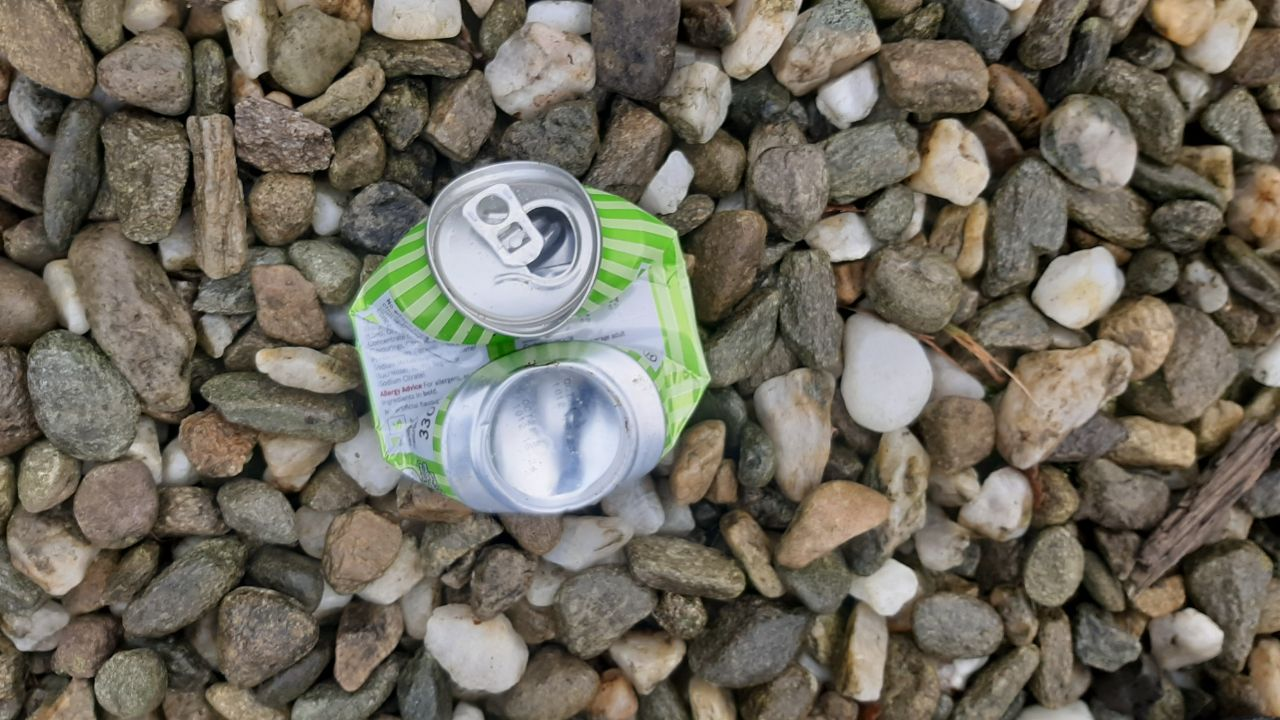Can: (345, 155, 717, 518)
